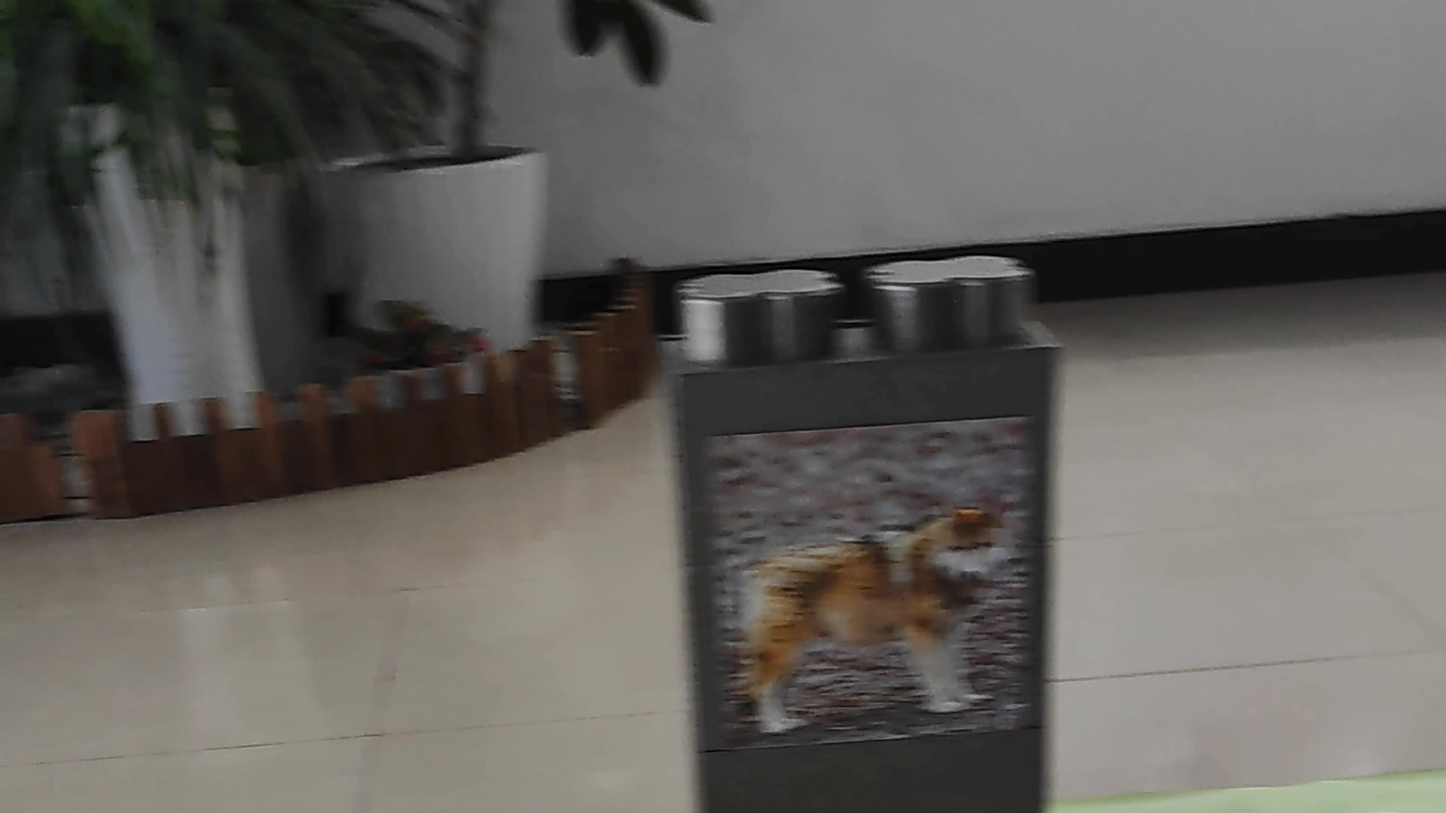wolf: (720, 466, 1022, 746)
